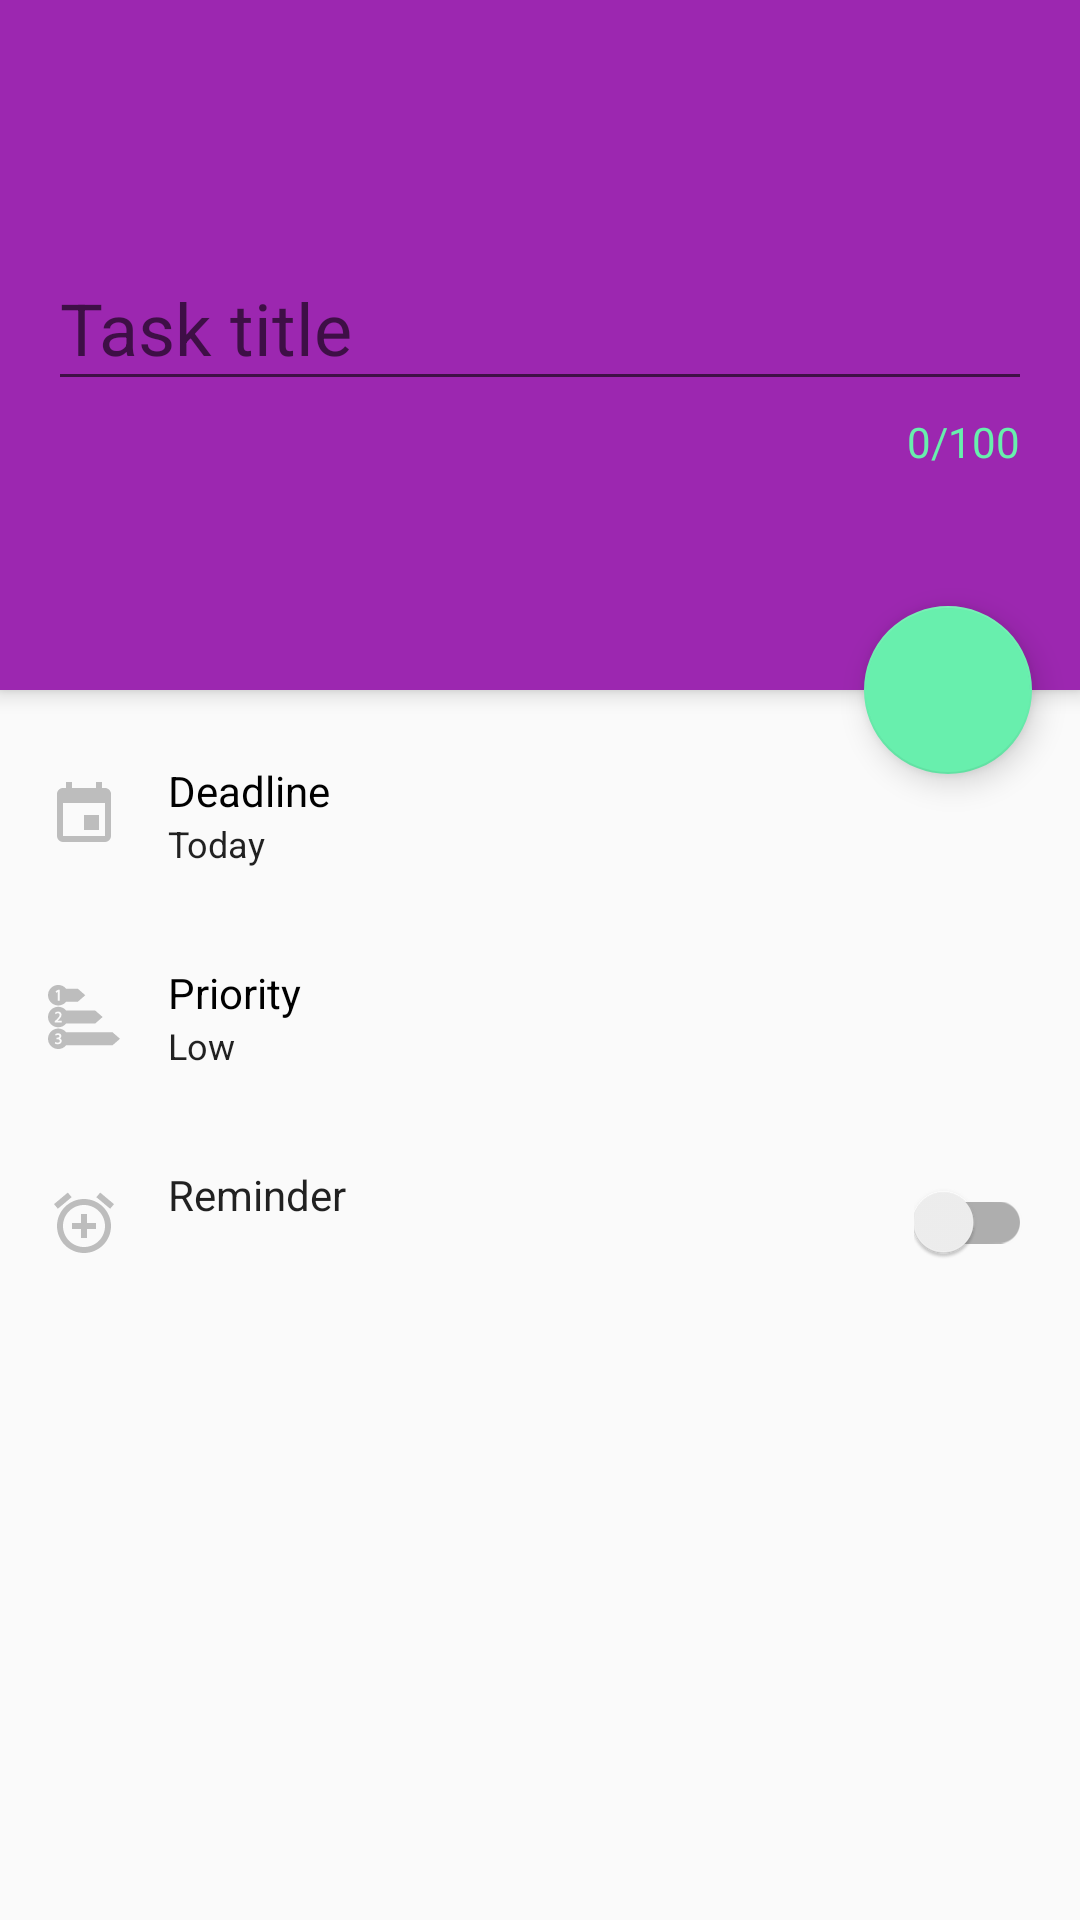

Icons on this 1080w x 1920h Android screen, each with the point to tap as point (x, y):
add edit task alarm: point (84, 1223)
add edit task calender: point (84, 812)
